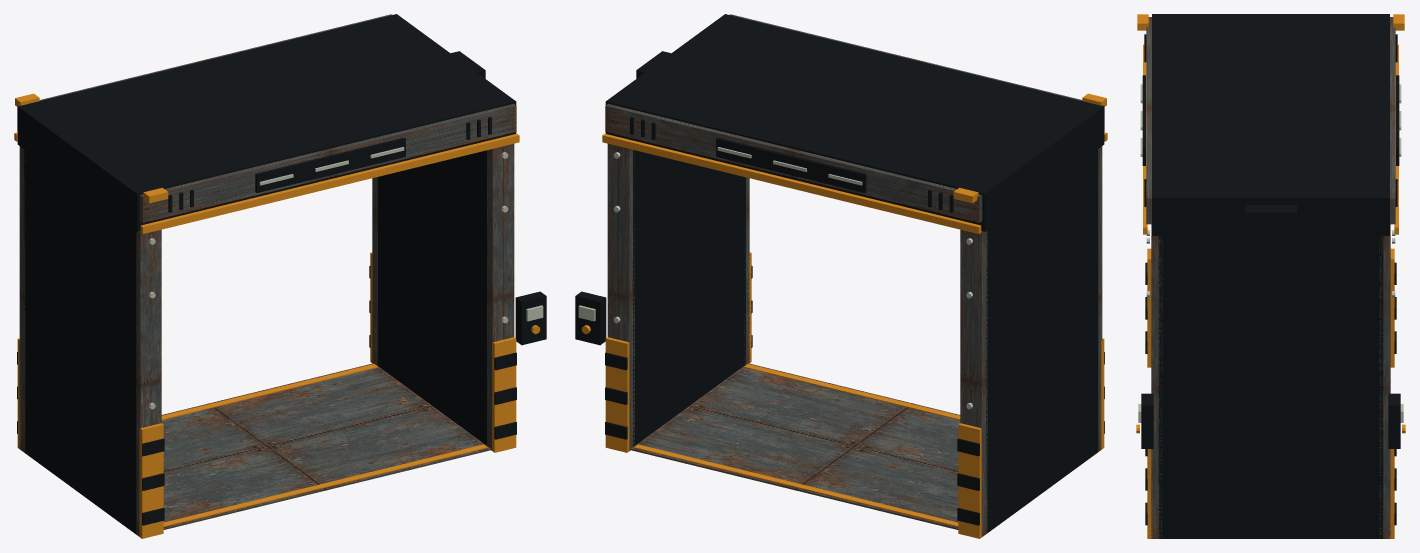
File: RaisedServiceShutter.obj
The picture shows the model from 3 angles, left to right: view 1: azimuth 30°, elevation 25°; view 2: azimuth 150°, elevation 25°; view 3: azimuth 270°, elevation 25°; orthographic projection.
Parts seen in each view (by area): view 1: RaisedServiceShutter; view 2: RaisedServiceShutter; view 3: RaisedServiceShutter.
Boxes of the visible parts, x1=… form: RaisedServiceShutter: x1=14, y1=14, x2=546, y2=538; RaisedServiceShutter: x1=575, y1=14, x2=1107, y2=538; RaisedServiceShutter: x1=1136, y1=14, x2=1405, y2=538.
Bounding box in the file's own units: 4.88 × 3.99 × 2.83.
4 materials, 1 textured.
